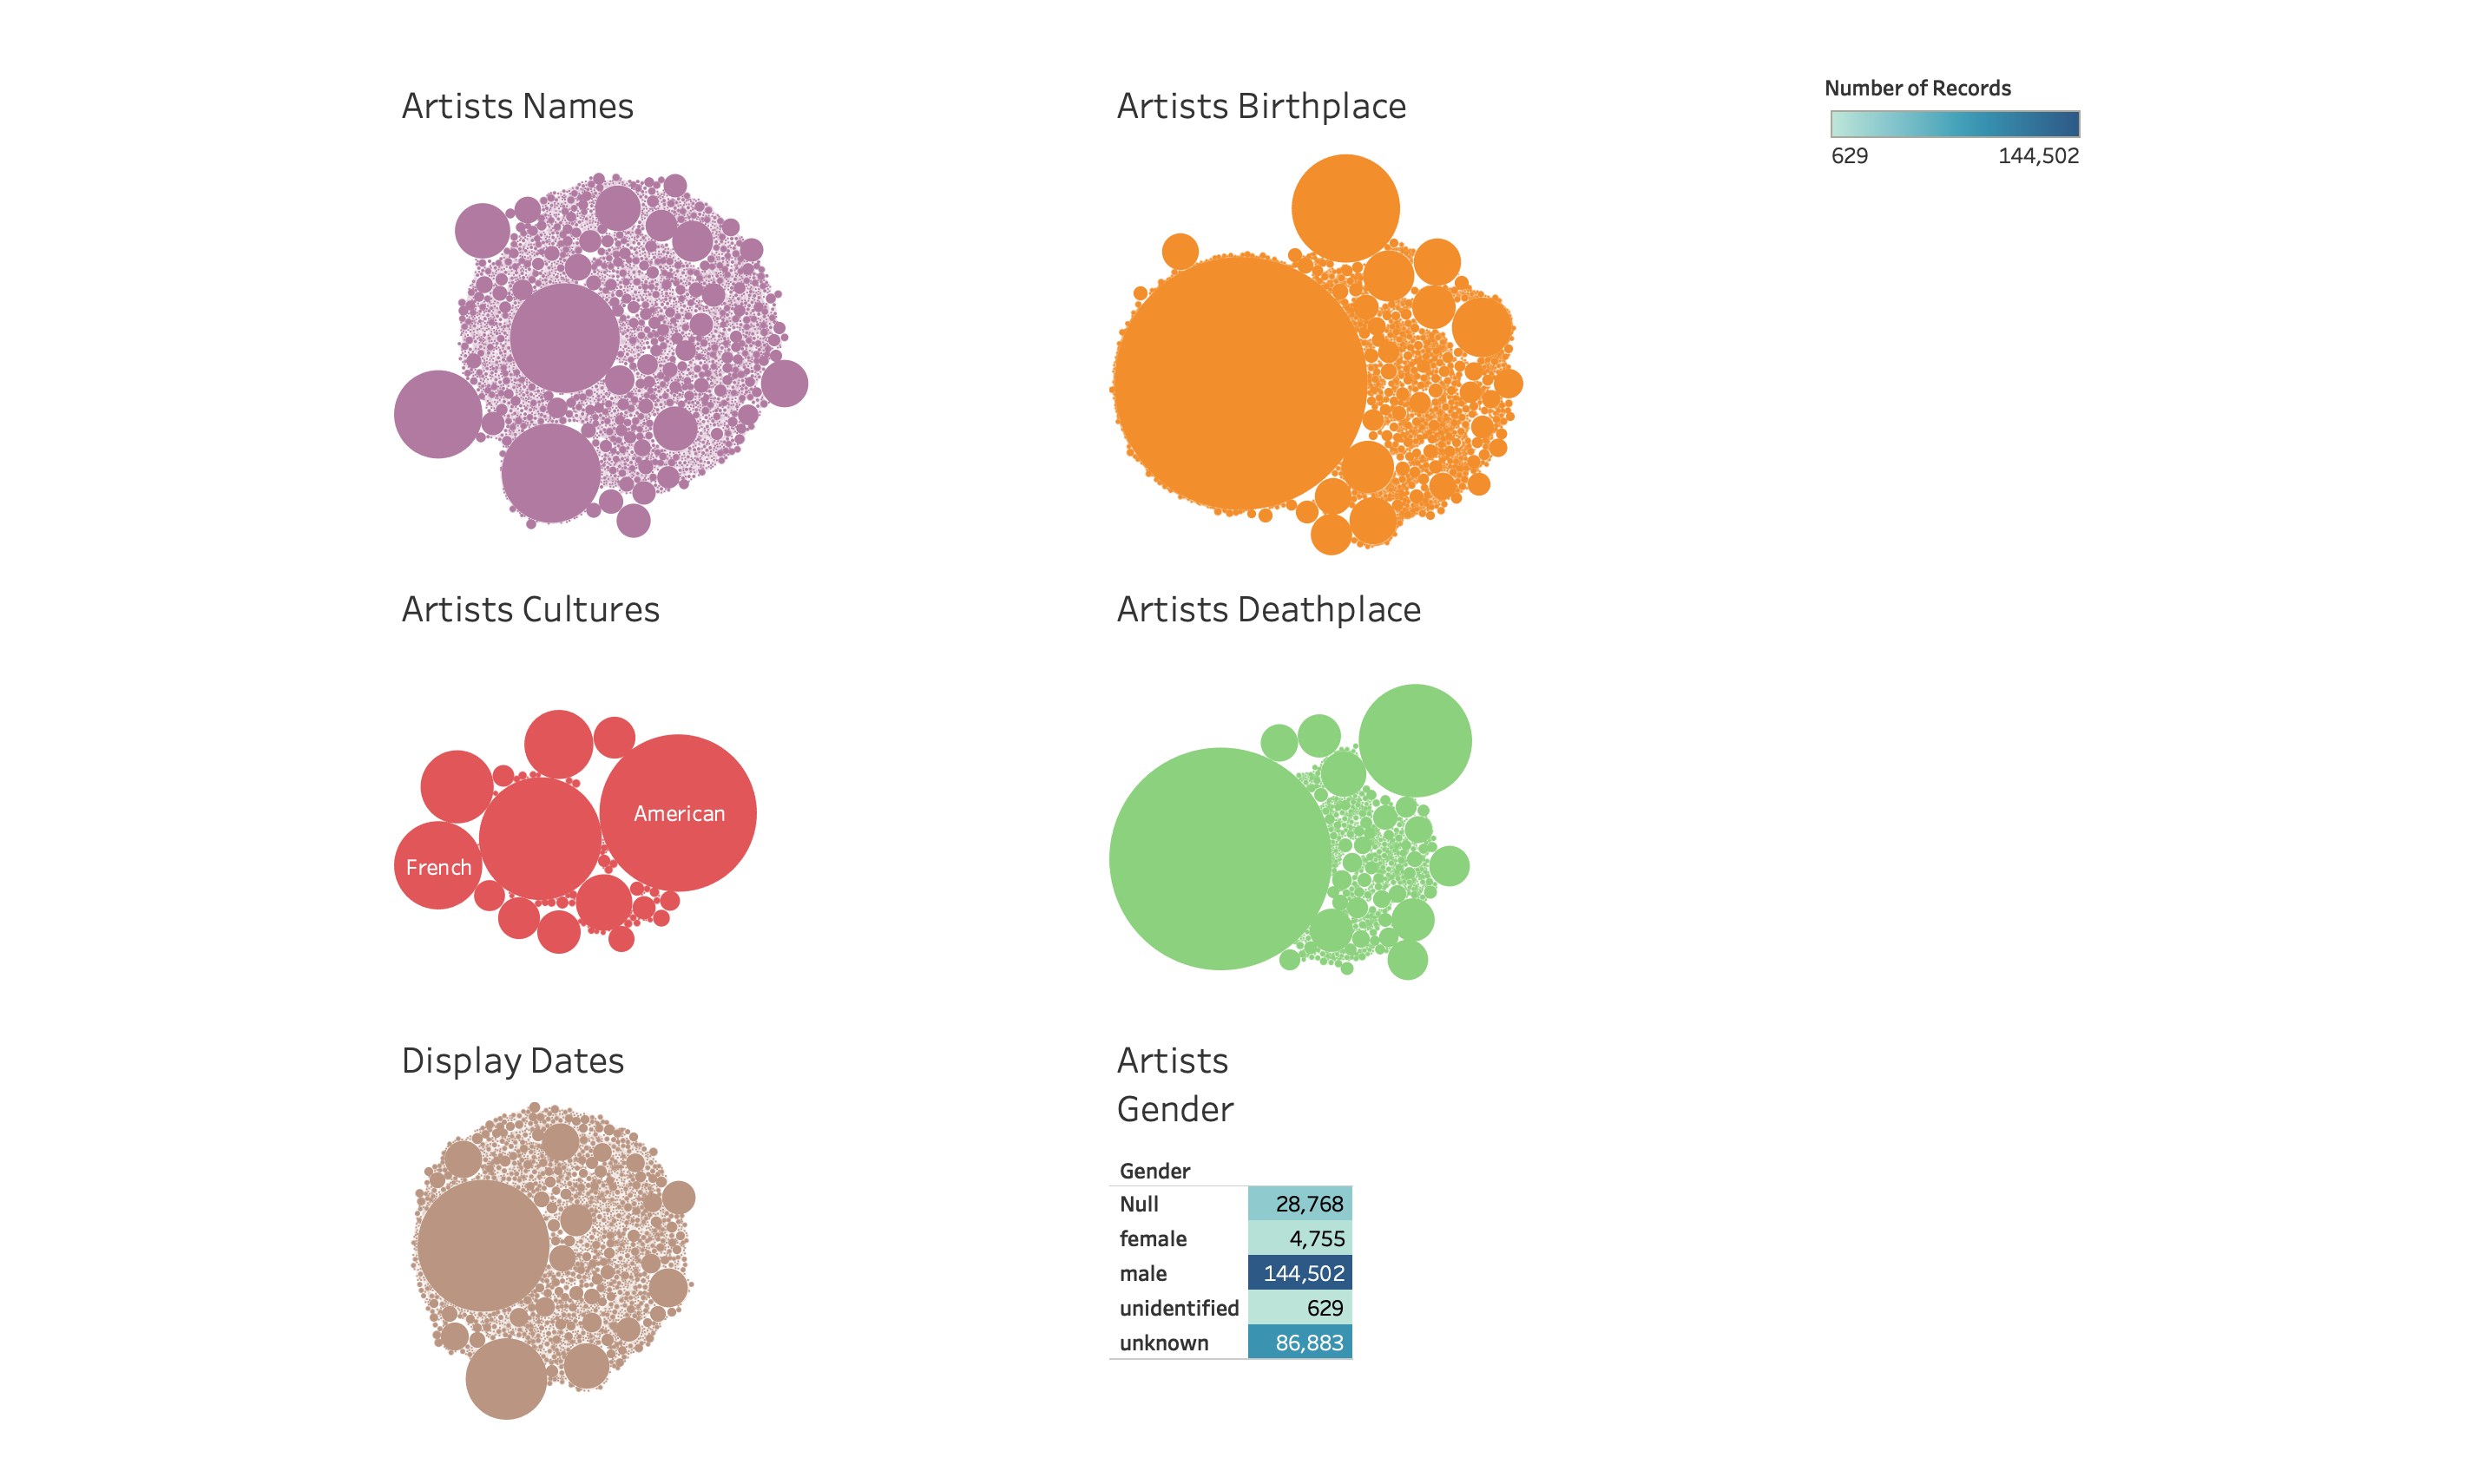

The dashboard page shown, as its layout file describes it:
{"tool":"tableau","page":{"name":"Dashboard 1","canvas":[1000,800],"ordinal":0},"visuals":[{"type":"worksheet","title":"Sheet 1","mark":"Circle","box":[8,8,412,290]},{"type":"worksheet","title":"Sheet 2","mark":"Circle","box":[420,8,412,290]},{"type":"legend","title":"Sheet 6","param":"[federated.06wopnj0cncuxb119sm601tj1r23].[sum:Number of Records:qk]","box":[832,8,160,65]},{"type":"worksheet","title":"Sheet 3","mark":"Circle","box":[8,298,412,260]},{"type":"worksheet","title":"Sheet 4","mark":"Circle","box":[420,298,412,260]},{"type":"worksheet","title":"Sheet 5","mark":"Circle","box":[8,558,412,234]},{"type":"worksheet","title":"Sheet 6","mark":"Square","rows":["gender"],"box":[420,558,412,234]}]}

Visuals, with their boxes in screenshot pixels (x1, y1, x2, y2):
"Sheet 1" worksheet (Circle marks): [0,98,613,610]
"Sheet 2" worksheet (Circle marks): [613,98,1340,610]
"Sheet 6" legend: [1340,98,1622,213]
"Sheet 3" worksheet (Circle marks): [0,610,613,1069]
"Sheet 4" worksheet (Circle marks): [613,610,1340,1069]
"Sheet 5" worksheet (Circle marks): [0,1069,613,1482]
"Sheet 6" worksheet (Square marks): [613,1069,1340,1482]
